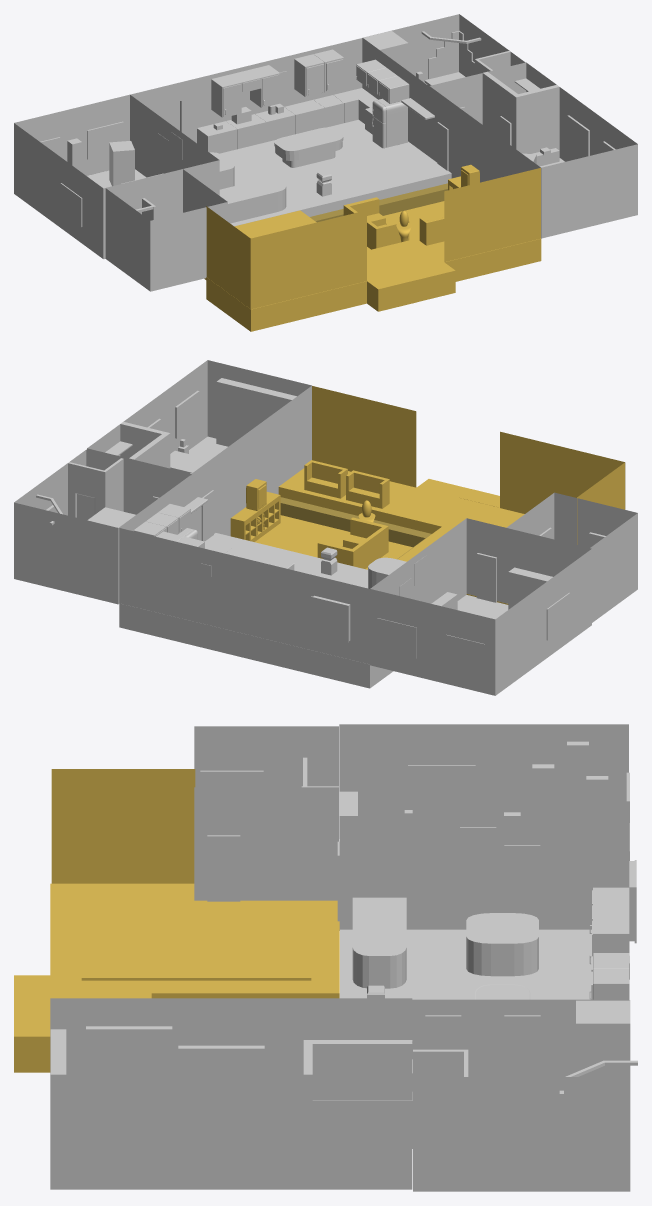
File: Blockout.fbx
3 renders of one model, top to bottom at view 1: azimuth 30°, elevation 25°; view 2: azimuth 150°, elevation 25°; view 3: azimuth 270°, elevation 25°, orthographic. The views are drawn at different scales.
Visible parts, largest first — view 1: Walls.001, Floor, Cube.050, Cube, Parents Wall 1, Kids room walls 2, Cube.049, Kids room walls, RightSideWall, LeftSideWall.001, Parents Wall 2, Cube.042 (+32 smaller); view 2: LeftSideWall.001, Kids room walls, Kids room walls 2, Walls, RightSideWall, Floor, Cube.049, Walls.001, Cube, Cube.050, Parents Wall 2, Parents Shelf (+32 smaller); view 3: Parents Wall 2, Walls, LeftSideWall, Parents Wall 1, Walls.001, Kids room walls, Cube.042, Cube.034, Cube, Floor, RoundedCornerTable, KitchenTable (+17 smaller).
Boxes of the visible parts, x1=… form: Walls.001: x1=105, y1=169, x2=227, y2=291; Floor: x1=220, y1=119, x2=451, y2=226; Cube.050: x1=250, y1=210, x2=366, y2=309; Cube: x1=204, y1=201, x2=541, y2=326; Parents Wall 1: x1=429, y1=86, x2=637, y2=238; Kids room walls 2: x1=14, y1=94, x2=218, y2=177; Cube.049: x1=444, y1=168, x2=540, y2=261; Kids room walls: x1=14, y1=123, x2=219, y2=259; RightSideWall: x1=362, y1=38, x2=539, y2=182; LeftSideWall.001: x1=130, y1=38, x2=362, y2=143; Parents Wall 2: x1=430, y1=62, x2=637, y2=161; Cube.042: x1=206, y1=206, x2=250, y2=308; LeftSideWall.001: x1=119, y1=528, x2=369, y2=664; Kids room walls: x1=466, y1=518, x2=591, y2=695; Kids room walls 2: x1=370, y1=518, x2=495, y2=695; Walls: x1=14, y1=449, x2=190, y2=604; RightSideWall: x1=119, y1=387, x2=311, y2=540; Floor: x1=119, y1=533, x2=393, y2=688; Cube.049: x1=312, y1=386, x2=416, y2=487; Walls.001: x1=506, y1=492, x2=637, y2=622; Cube: x1=255, y1=468, x2=524, y2=604; Cube.050: x1=500, y1=431, x2=625, y2=513; Parents Wall 2: x1=87, y1=360, x2=207, y2=475; Parents Shelf: x1=216, y1=378, x2=296, y2=446; Parents Wall 2: x1=50, y1=1074, x2=412, y2=1189; Walls: x1=413, y1=1000, x2=630, y2=1191; LeftSideWall: x1=340, y1=816, x2=629, y2=929; Parents Wall 1: x1=50, y1=998, x2=412, y2=1074; Walls.001: x1=194, y1=726, x2=338, y2=900; Kids room walls: x1=339, y1=724, x2=628, y2=838; Cube.042: x1=51, y1=769, x2=195, y2=883; Cube.034: x1=81, y1=910, x2=311, y2=980; Cube: x1=50, y1=899, x2=339, y2=998; Floor: x1=340, y1=929, x2=629, y2=1148; RoundedCornerTable: x1=352, y1=897, x2=406, y2=988; KitchenTable: x1=466, y1=913, x2=538, y2=976.
Size of the model in its own units: 2330 by 461 by 1724.
